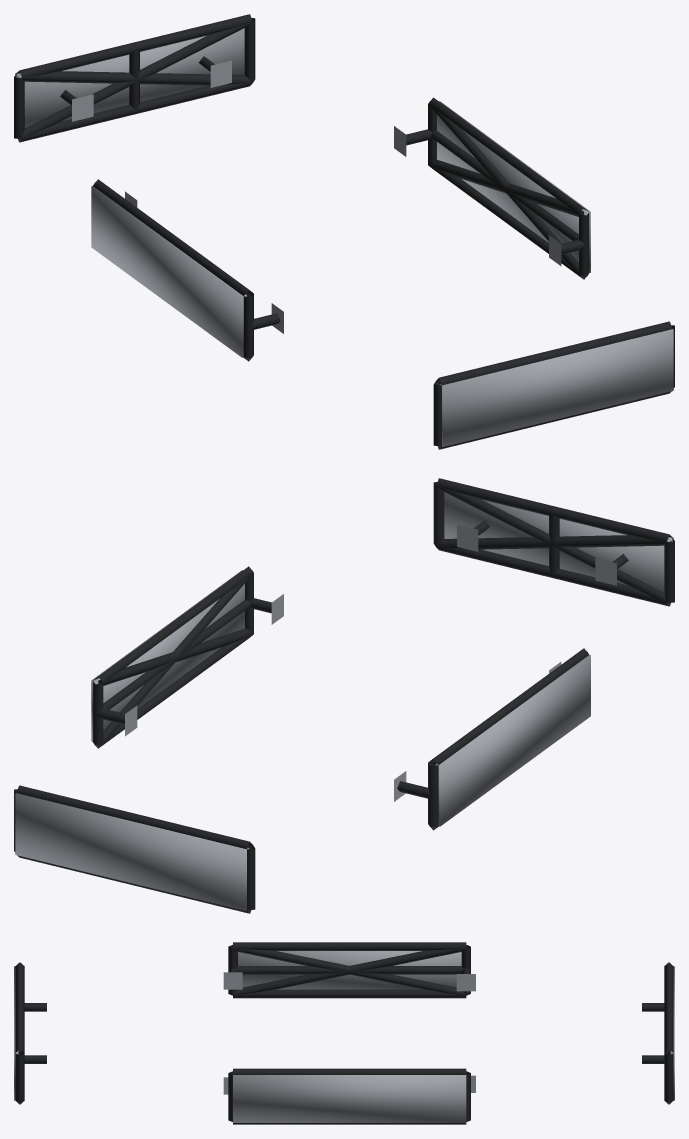
The model's file is whitlock_amora_protecao.glb.
3 renders of one model, top to bottom at view 1: azimuth 30°, elevation 25°; view 2: azimuth 150°, elevation 25°; view 3: azimuth 270°, elevation 25°, orthographic. The views are drawn at different scales.
Parts seen in each view (by area): view 1: Protection_front_Level3_Details, Protection_left_Level3_Details, Protection_rear_Level1_Details, Protection_rear_Level3_Details, Protection_right_Level1_Details, Protection_rear_Level2_Details, Protection_right_Level2_Details, Protection_right_Level3_Details, Protection_front_Level1_Details, Protection_left_Level1_Details; view 2: Protection_rear_Level3_Details, Protection_left_Level3_Details, Protection_front_Level1_Details, Protection_front_Level3_Details, Protection_right_Level1_Details, Protection_front_Level2_Details, Protection_right_Level2_Details, Protection_right_Level3_Details, Protection_rear_Level1_Details, Protection_left_Level1_Details; view 3: Protection_right_Level3_Details, Protection_left_Level1_Details, Protection_left_Level2_Details, Protection_left_Level3_Details, Protection_right_Level1_Details, Protection_rear_Level1_Details, Protection_front_Level1_Details.
Part boxes in pixels (x1,y1,x2,y2): Protection_front_Level3_Details: (440, 329, 673, 446); Protection_left_Level3_Details: (91, 186, 246, 357); Protection_rear_Level1_Details: (14, 14, 255, 142); Protection_rear_Level3_Details: (15, 28, 244, 128); Protection_right_Level1_Details: (394, 97, 589, 279); Protection_rear_Level2_Details: (16, 22, 252, 141); Protection_right_Level2_Details: (428, 104, 588, 278); Protection_right_Level3_Details: (437, 101, 590, 272); Protection_front_Level1_Details: (433, 321, 674, 449); Protection_left_Level1_Details: (93, 179, 283, 361); Protection_rear_Level3_Details: (15, 793, 248, 910); Protection_left_Level3_Details: (435, 655, 590, 826); Protection_front_Level1_Details: (433, 478, 674, 606); Protection_front_Level3_Details: (444, 492, 673, 592); Protection_right_Level1_Details: (93, 566, 283, 748); Protection_front_Level2_Details: (436, 486, 672, 605); Protection_right_Level2_Details: (93, 573, 253, 747); Protection_right_Level3_Details: (91, 570, 244, 741); Protection_rear_Level1_Details: (14, 785, 255, 913); Protection_left_Level1_Details: (394, 648, 588, 830); Protection_right_Level3_Details: (233, 1075, 466, 1122); Protection_left_Level1_Details: (223, 942, 475, 998); Protection_left_Level2_Details: (232, 946, 466, 995); Protection_left_Level3_Details: (238, 951, 461, 989); Protection_right_Level1_Details: (223, 1068, 475, 1124); Protection_rear_Level1_Details: (642, 962, 673, 1104); Protection_front_Level1_Details: (15, 962, 46, 1104).
Size of the model in its own units: 1.79 by 0.354 by 3.8.
1 material, 1 textured.
